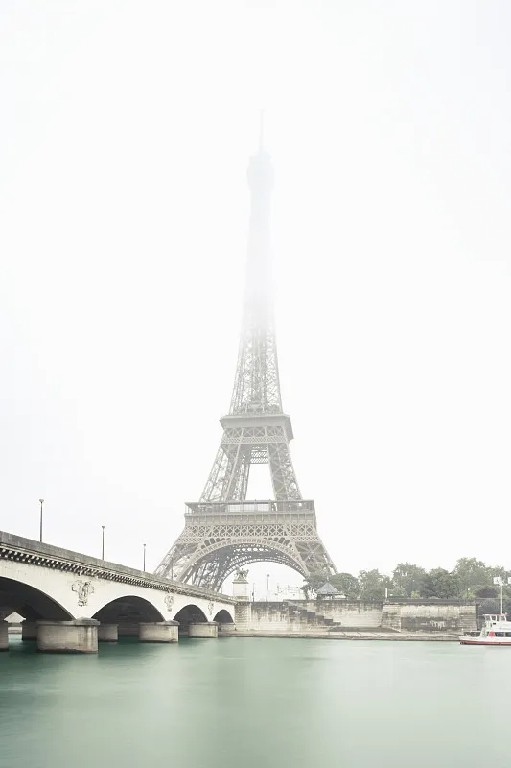Eiffel: (153, 108, 338, 600)
